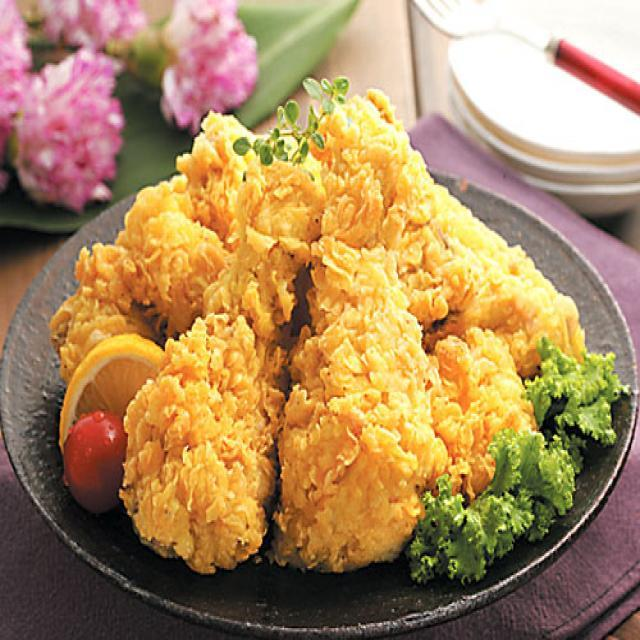Frango: (53, 99, 587, 568)
